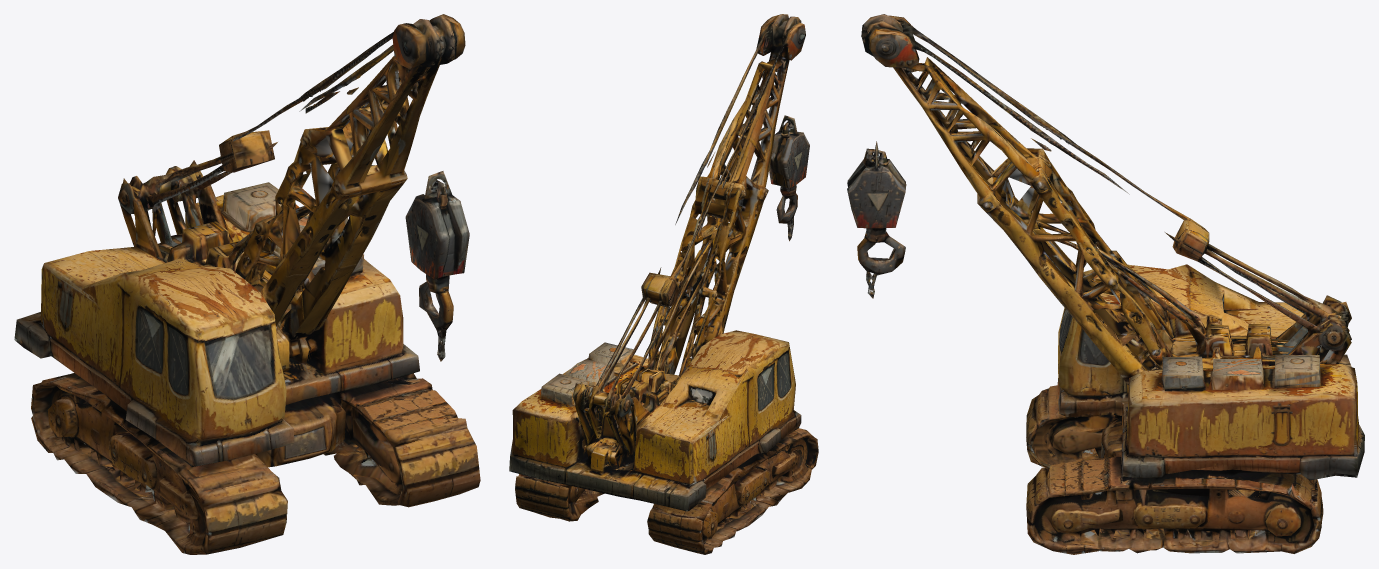
File: EX_Exc_Crane.fbx
3 views of the same model, side by side, from view 1: azimuth 30°, elevation 25°; view 2: azimuth 150°, elevation 25°; view 3: azimuth 270°, elevation 25° (orthographic). The views are drawn at different scales.
Visible parts, largest first — view 1: texture_mapping; view 2: texture_mapping; view 3: texture_mapping.
Boxes of the visible parts, x1=… form: texture_mapping: x1=14, y1=14, x2=480, y2=554; texture_mapping: x1=509, y1=14, x2=818, y2=554; texture_mapping: x1=847, y1=14, x2=1364, y2=554.
Bounding box in the file's own units: 0.5044 × 0.9708 × 0.9998.
1 material, 1 textured.
